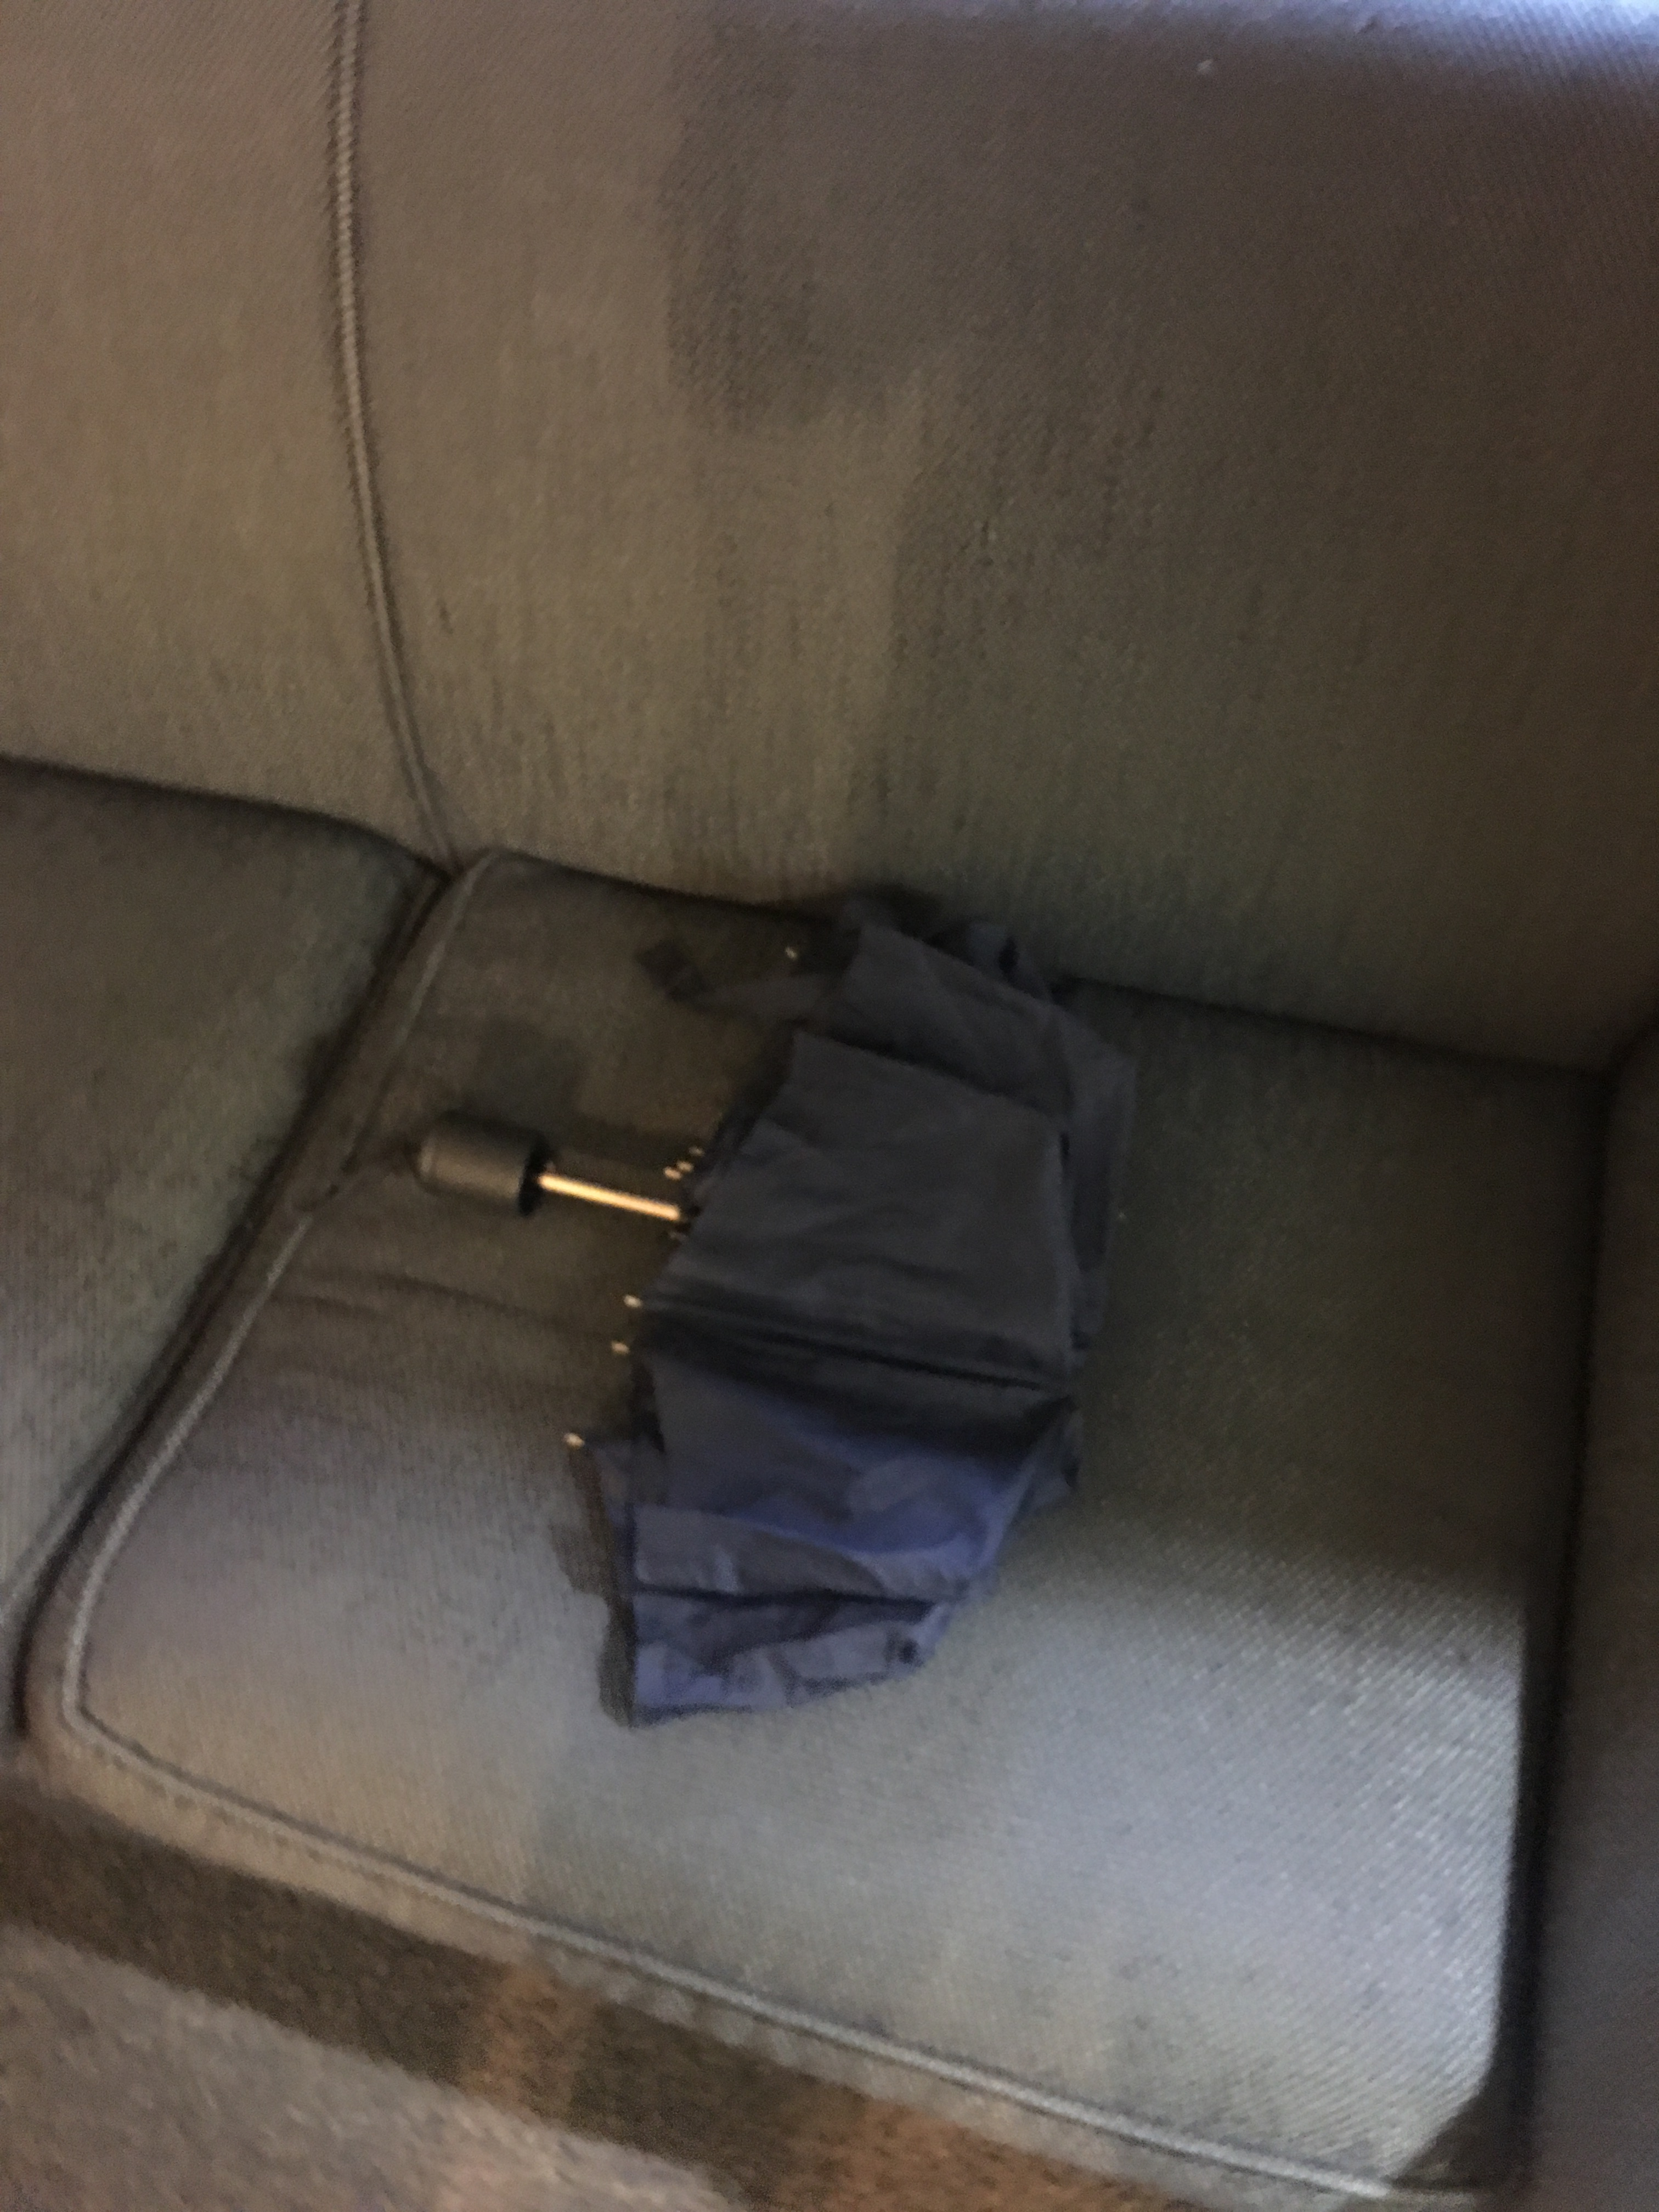Umbrella: (399, 873, 1147, 1743)
